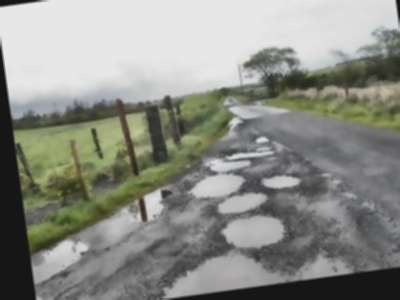pothole: (148, 242, 291, 299), (218, 208, 289, 251), (290, 245, 359, 280), (189, 168, 249, 200), (215, 188, 269, 216), (260, 169, 304, 191), (204, 154, 252, 174), (227, 148, 277, 161), (254, 134, 270, 144)
